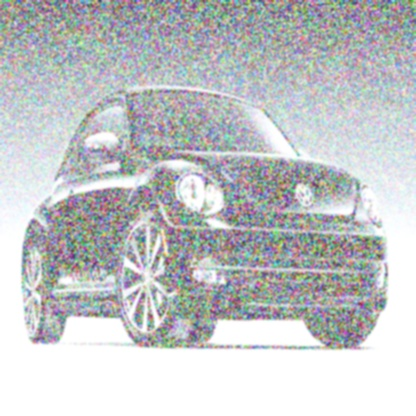Vehicle: (20, 82, 392, 357)
